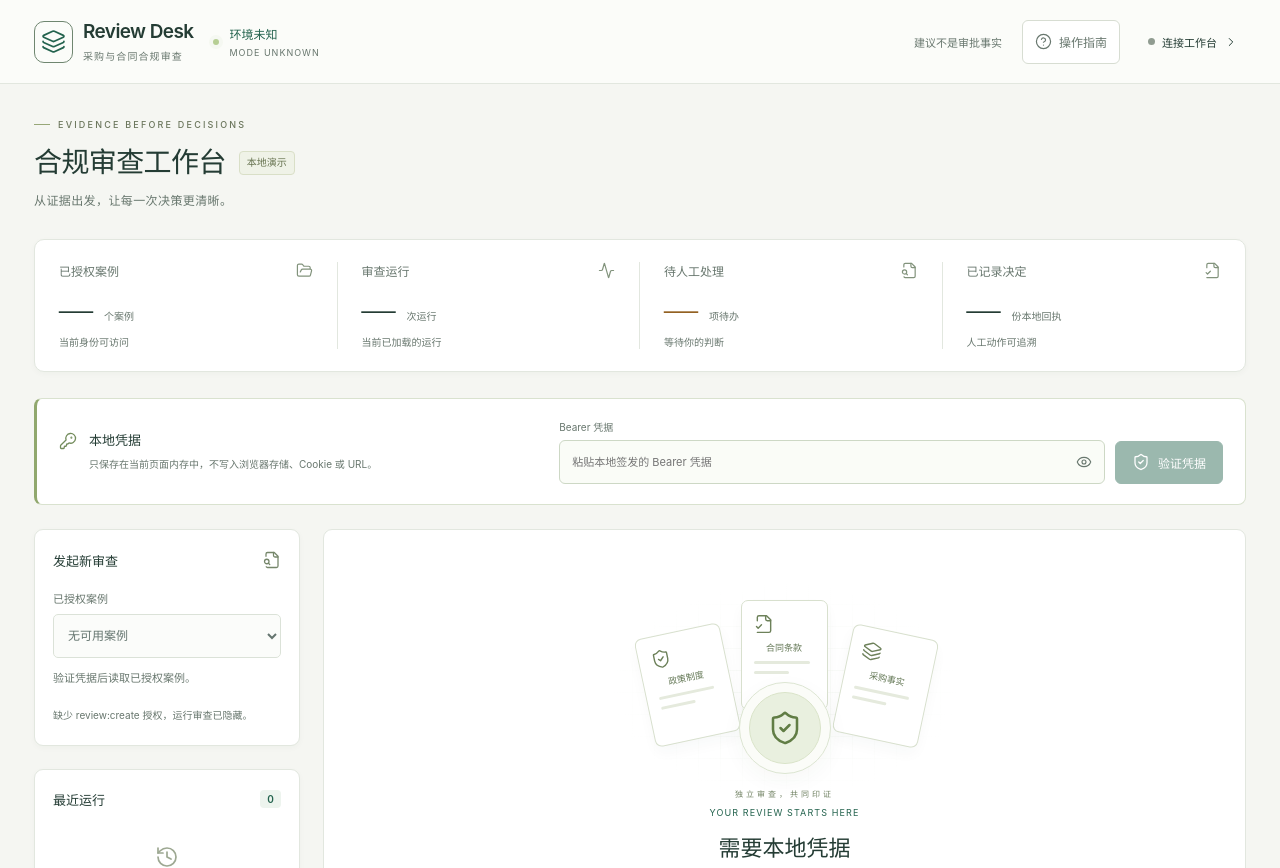
Scenario: FIX-01C tab semantics › renders only the tabs a narrower credential may use, without reading the hidden views
The image size is (1280, 868).
Type "fix01c-local-credential" into the password field labelled "Bearer 凭据" at point(812, 462), box [560, 441, 1064, 483]
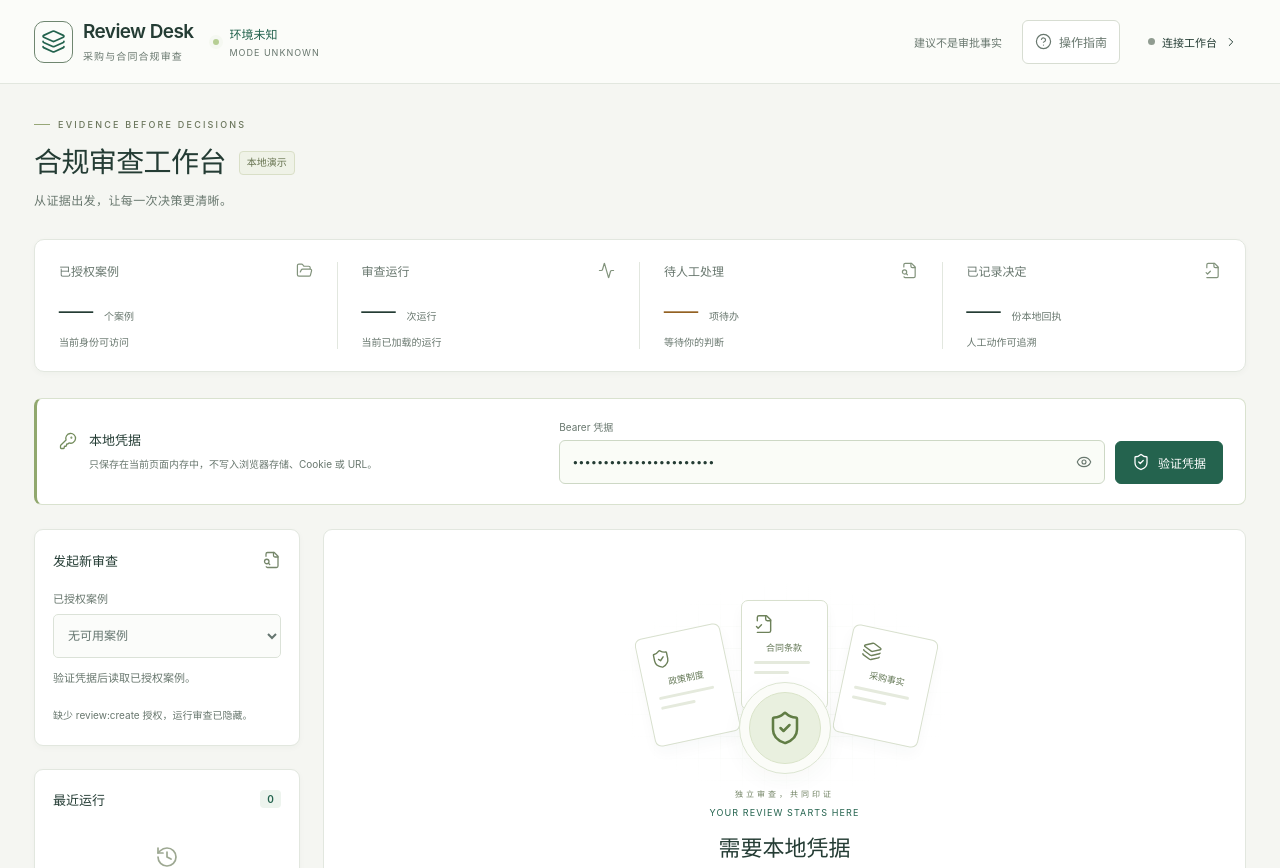
Click the button "验证凭据" at point(1169, 462), box [1115, 441, 1223, 484]
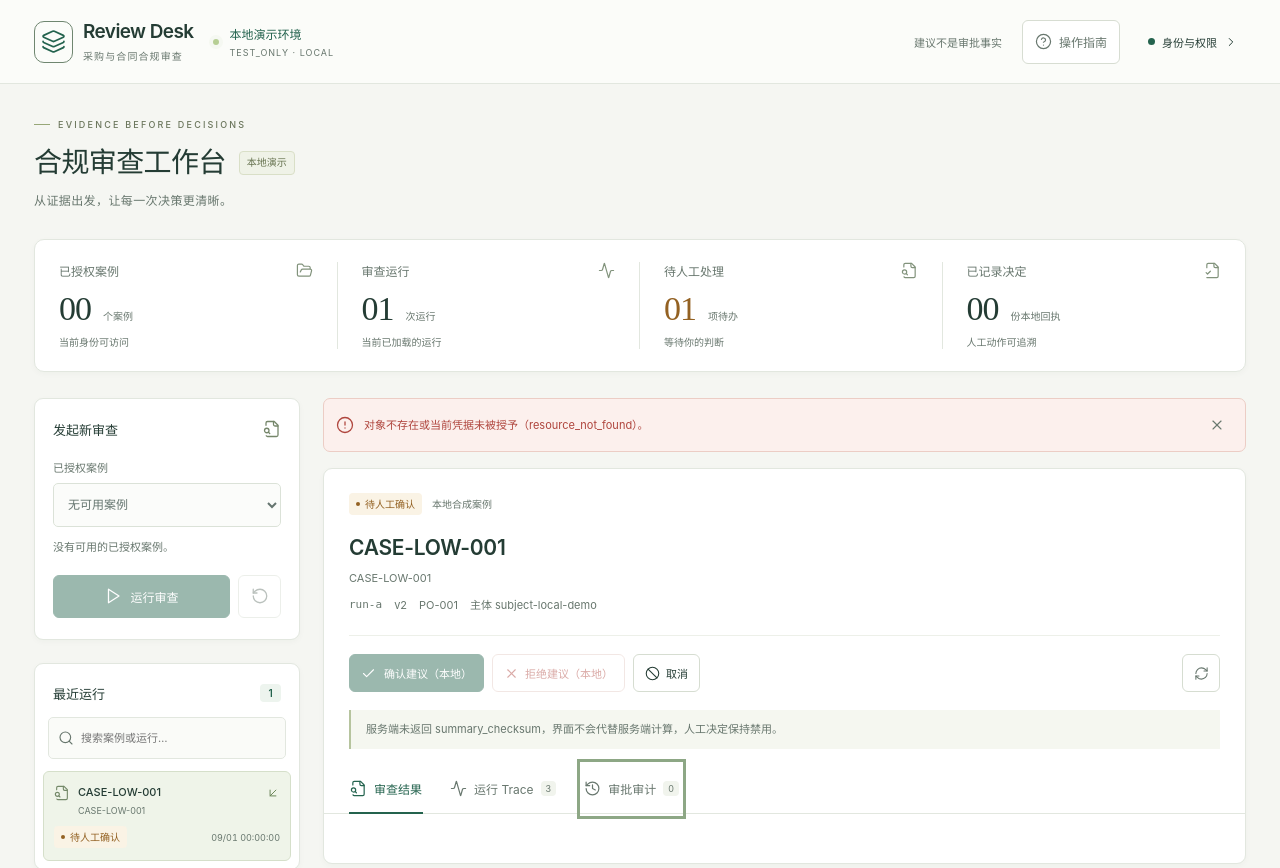
Expected: the number of tabs is 3, [349, 765, 423, 813]; [449, 765, 557, 813]; [583, 765, 680, 813]
Click the button "身份与权限" at point(1193, 42), box [1140, 20, 1246, 64]
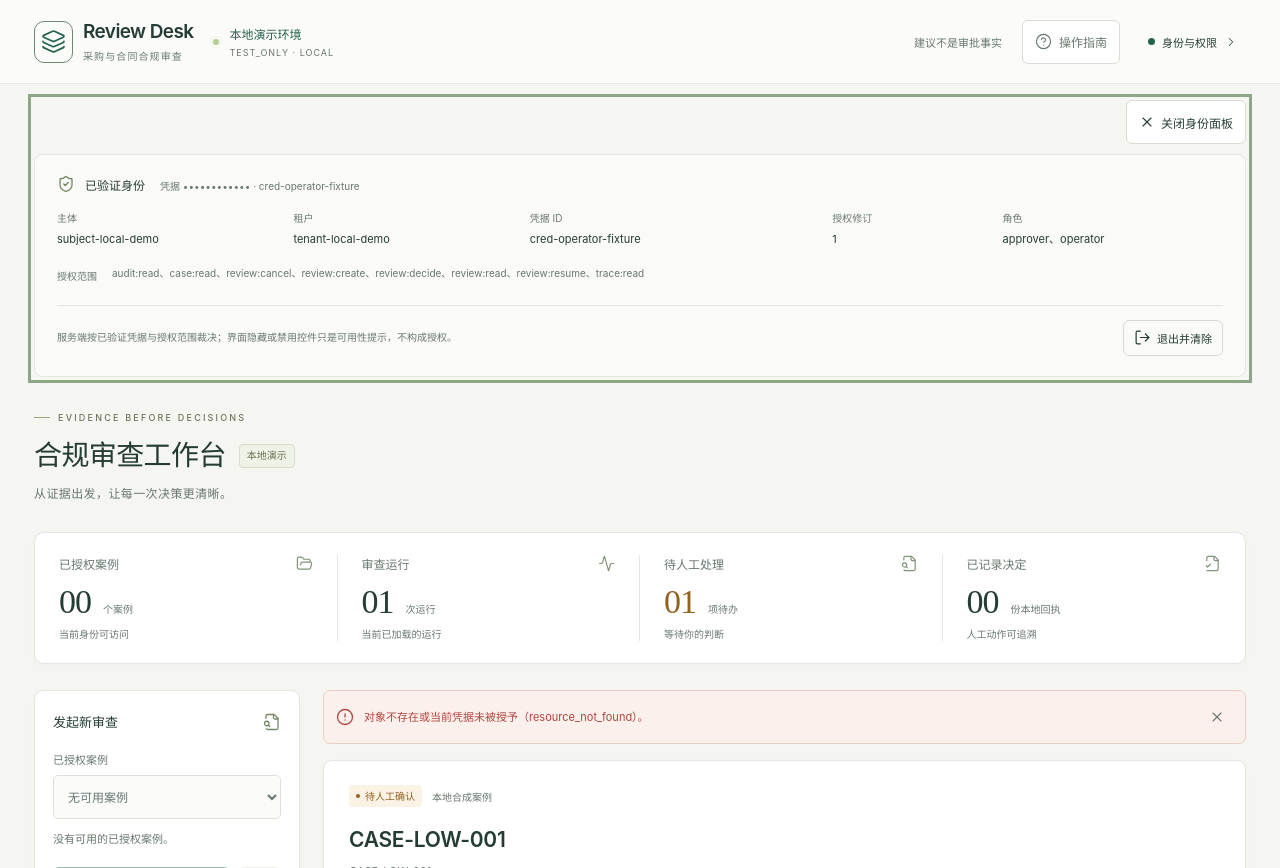
Click the button "退出并清除" at point(1173, 338), box [1123, 320, 1223, 356]
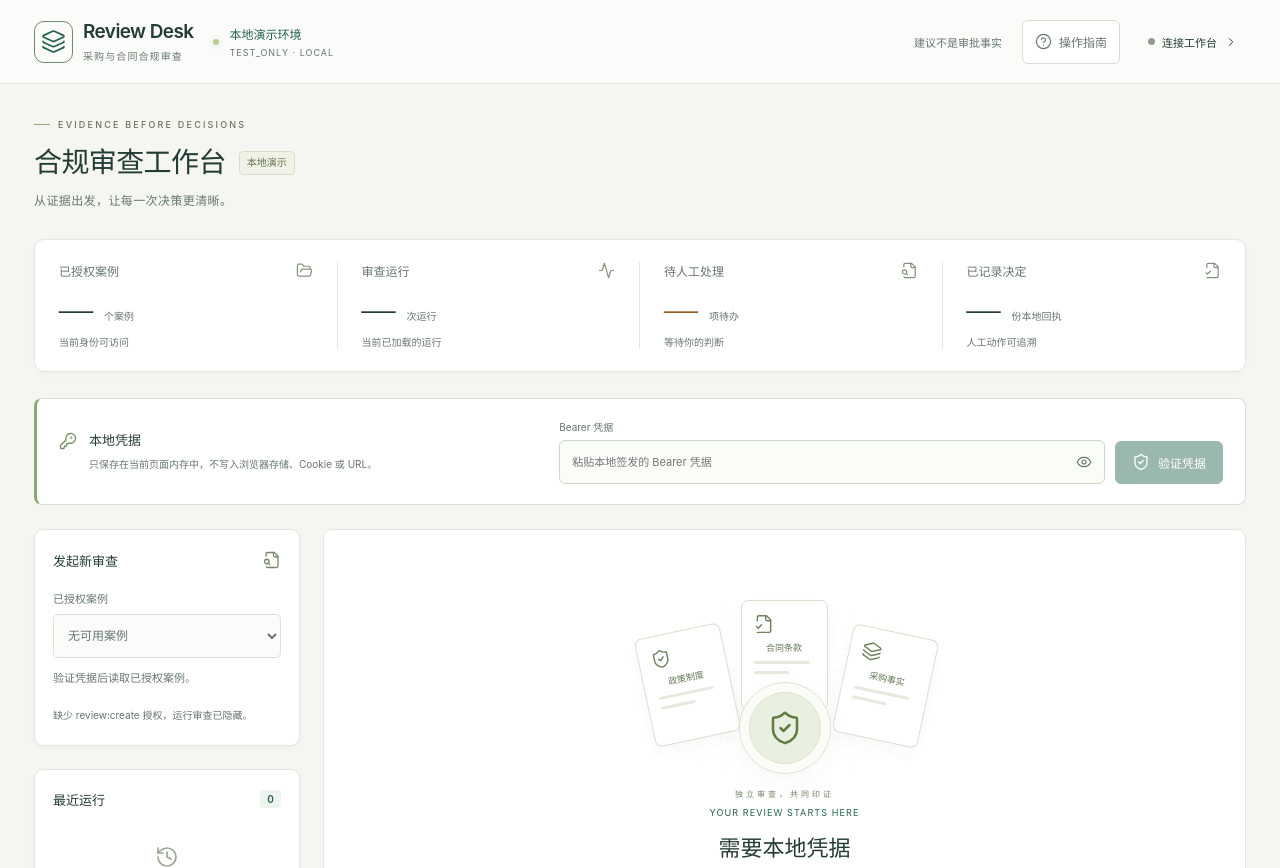
Type "reader-credential" into the password field labelled "Bearer 凭据" at point(812, 462), box [560, 441, 1064, 483]
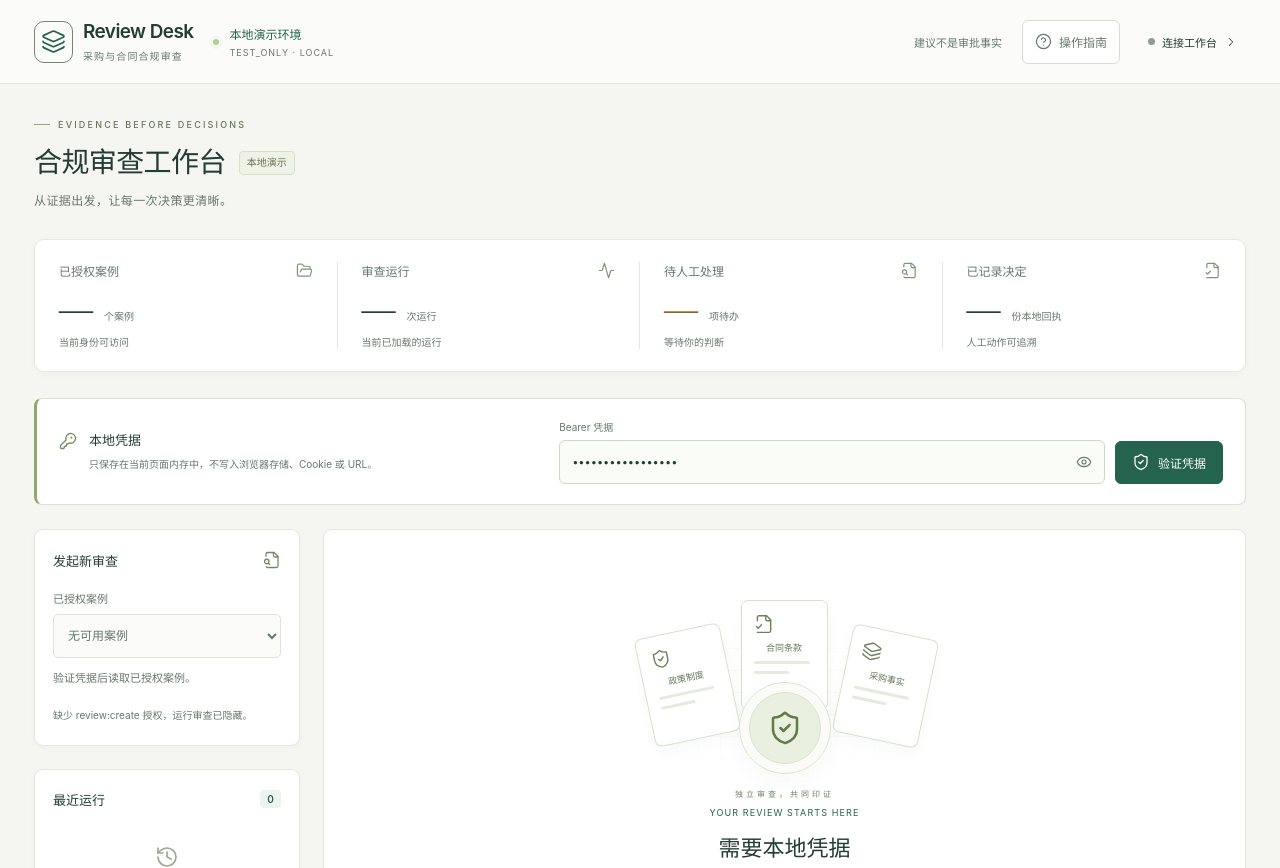
Click the button "验证凭据" at point(1169, 462), box [1115, 441, 1223, 484]
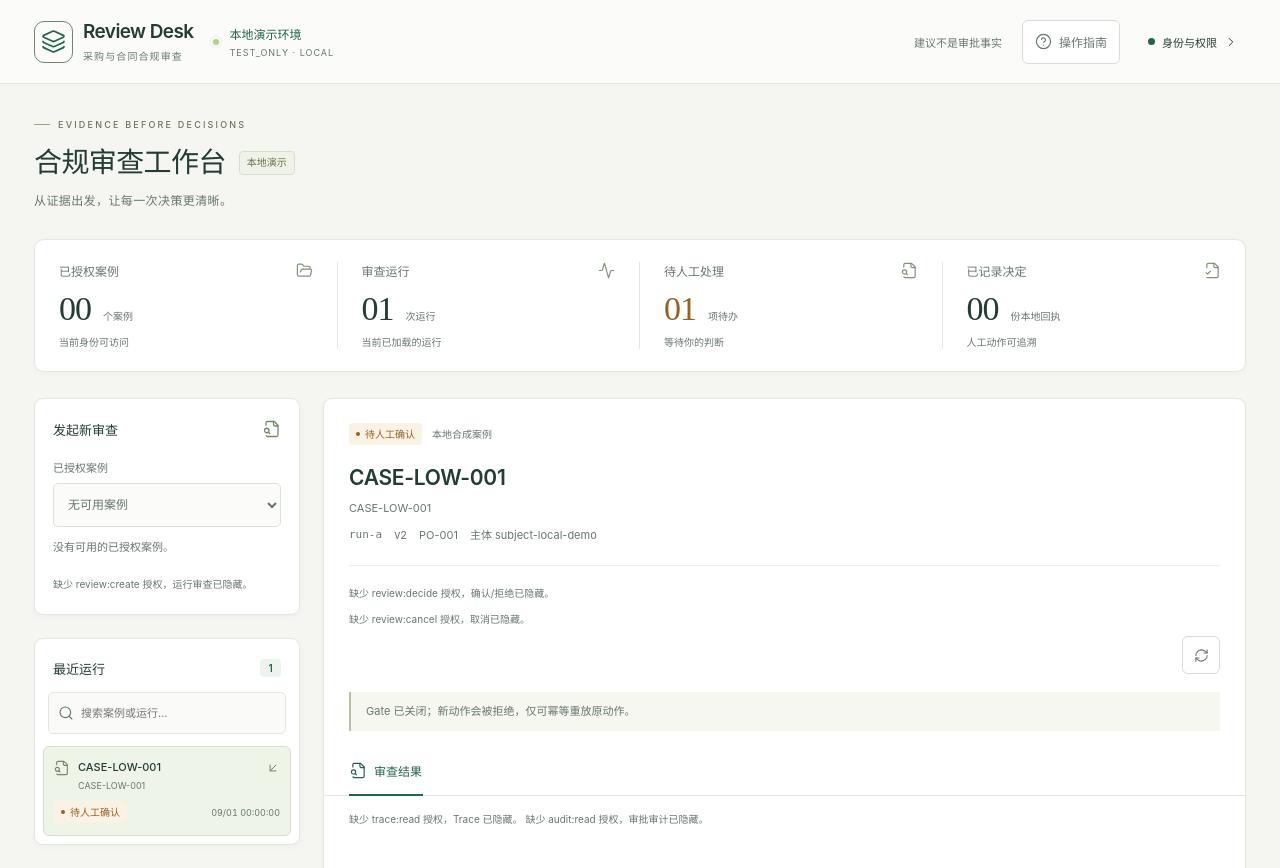
Expected: the number of tabs is 1, [349, 747, 423, 795]
Expected: the tab reads "审查结果", [349, 747, 423, 795]
Expected: the text "缺少 trace:read 授权，Trace 已隐藏。 缺少 audit:read 授权，审批审计已隐藏。" is shown, [349, 813, 708, 825]
